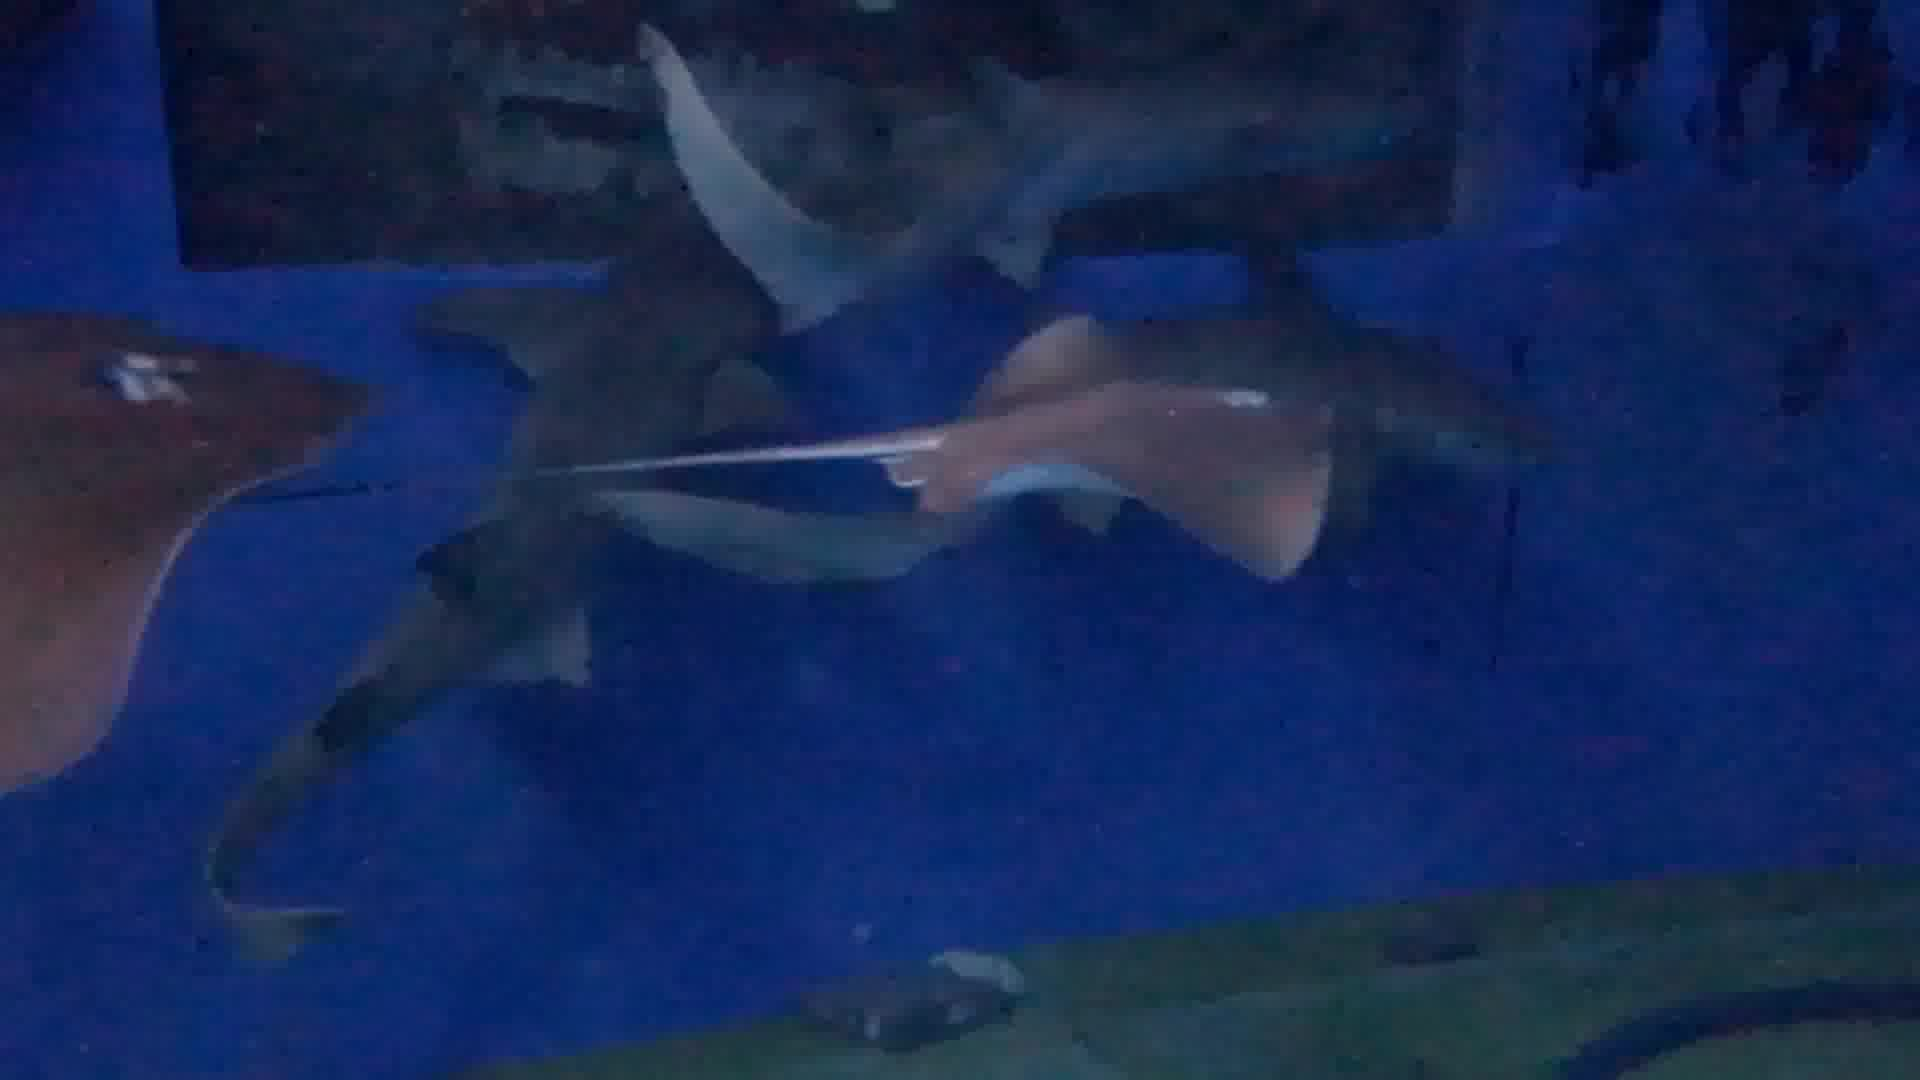Nebrius ferrugineus: (211, 124, 787, 990), (535, 45, 1493, 284)
